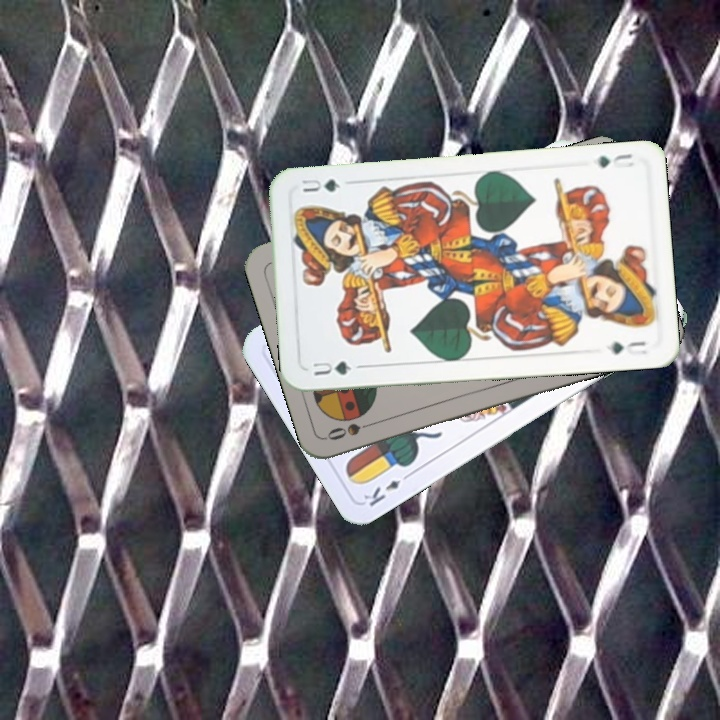EK: (359, 468, 414, 509)
GU: (308, 356, 354, 379), (593, 149, 636, 171)
SO: (323, 416, 381, 443)
